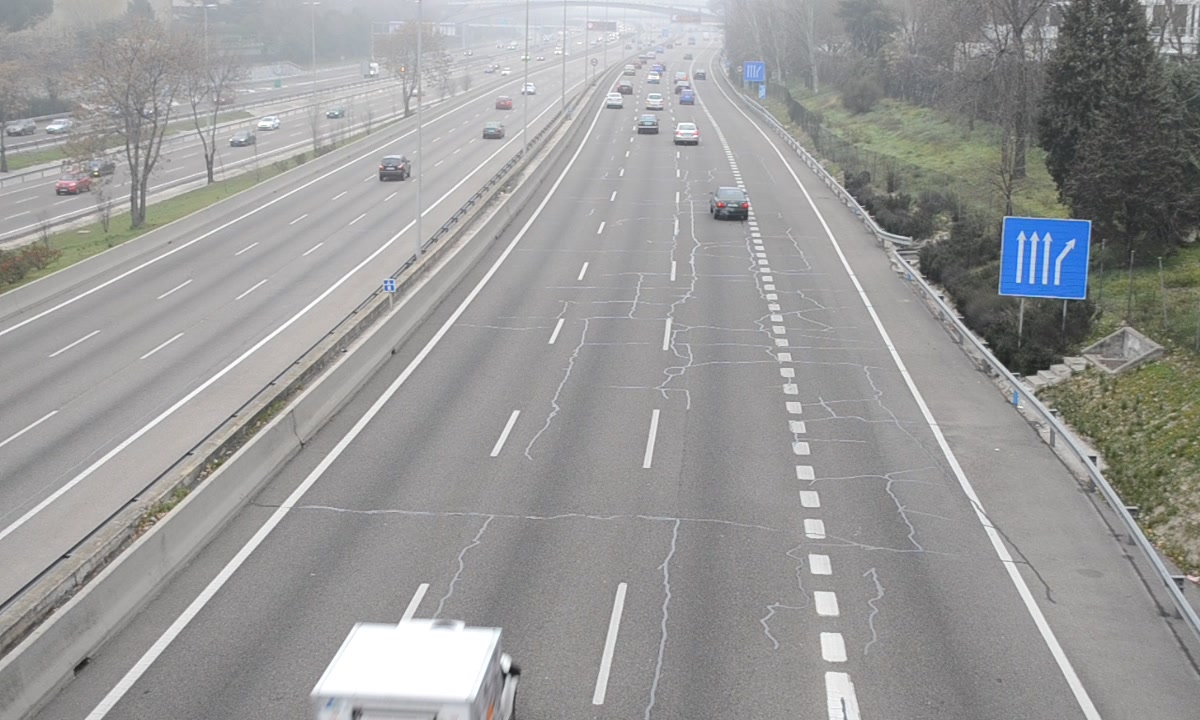car: (710, 185, 749, 221)
